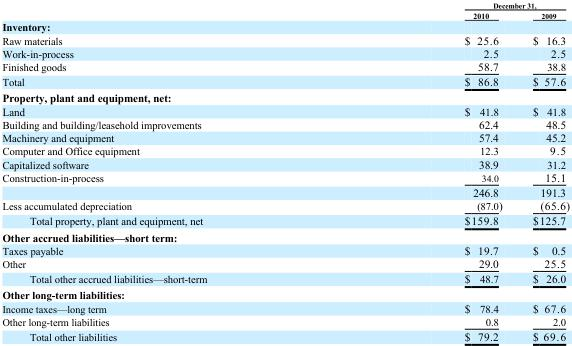table: (1, 0, 568, 342)
table column: (1, 0, 335, 342), (335, 0, 516, 342), (516, 0, 568, 342)
table column header: (1, 0, 568, 20)
table projected row header: (1, 89, 568, 104), (1, 228, 568, 243), (1, 286, 568, 301), (1, 20, 568, 32)
table row: (1, 73, 568, 89), (1, 270, 568, 286), (1, 89, 568, 104), (1, 198, 568, 213), (1, 213, 568, 228), (1, 228, 568, 243), (1, 286, 568, 301), (1, 32, 568, 46), (1, 59, 568, 73), (1, 143, 568, 157), (1, 170, 568, 184), (1, 184, 568, 198), (1, 256, 568, 270), (1, 314, 568, 328), (1, 328, 568, 342), (1, 46, 568, 59), (1, 104, 568, 117), (1, 117, 568, 130), (1, 130, 568, 143), (1, 157, 568, 170), (1, 243, 568, 256), (1, 301, 568, 314), (1, 20, 568, 32), (1, 9, 568, 20), (1, 0, 568, 9)
table spanning cell: (335, 0, 568, 9)
